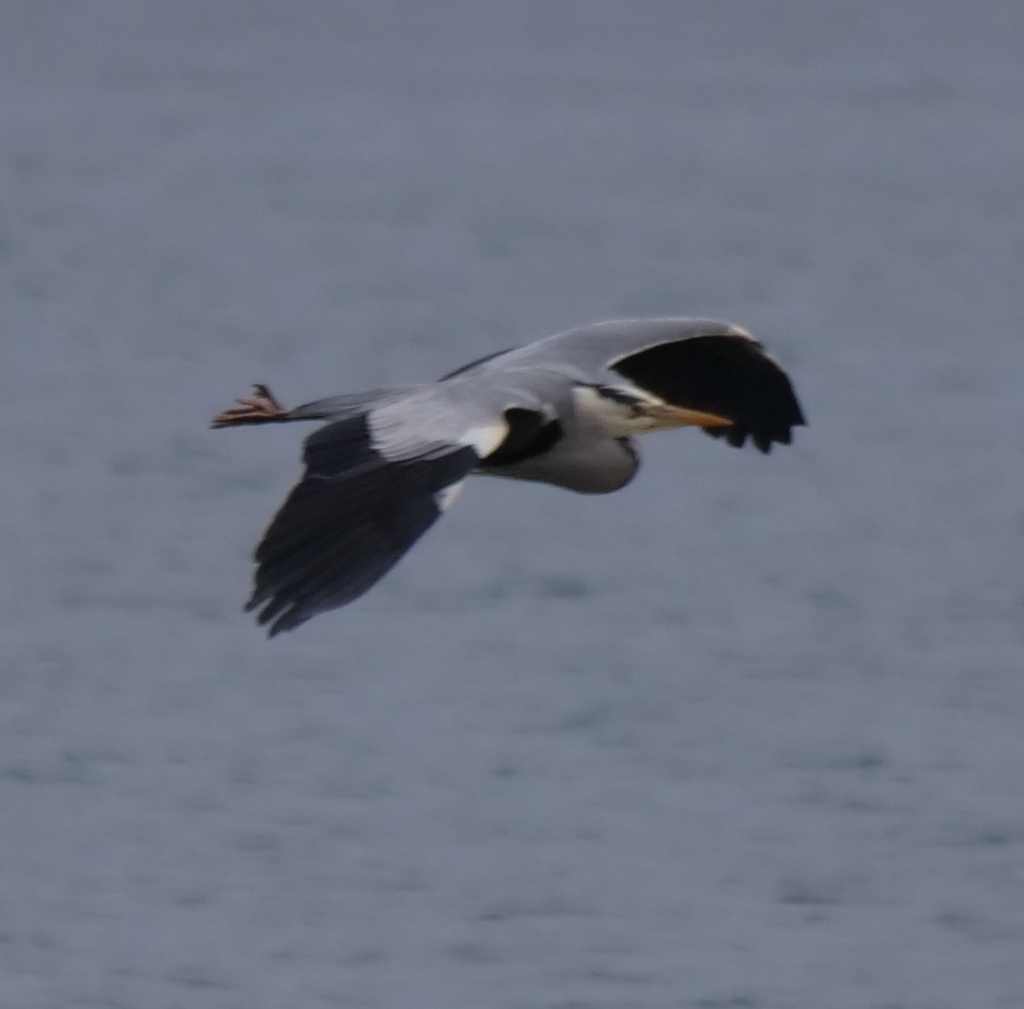heron: (207, 314, 815, 638)
